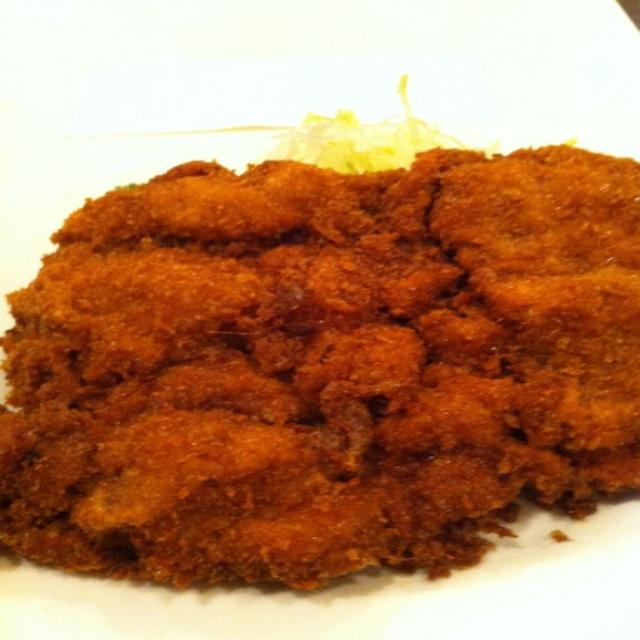鸡肉料理 含炸鸡: (9, 148, 615, 552)
